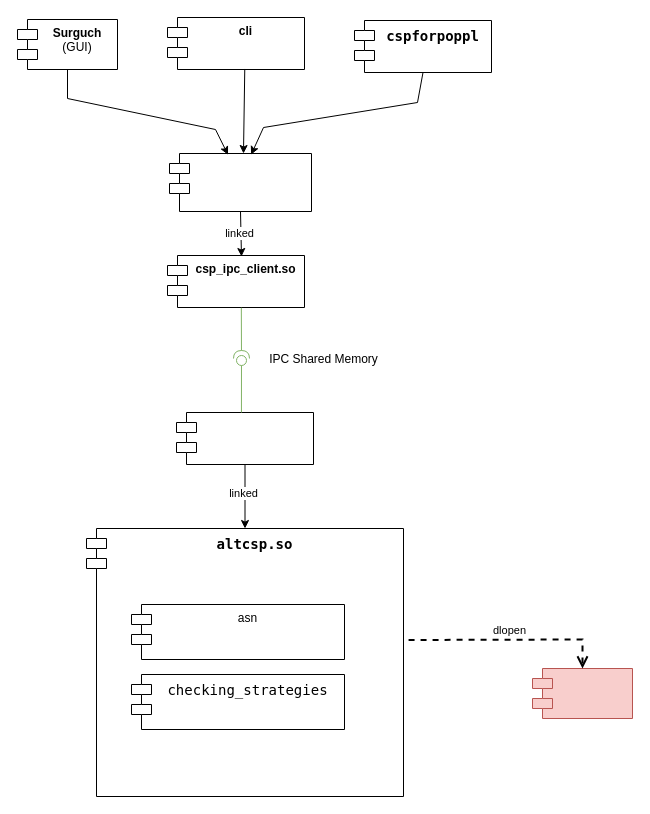
Some shapes in this 650 by 814 pixel diagram are drawn without their labels. Here are the shapes that lost their labels. From the top down, the centre of each, then its label:
At point (240, 182): "c_bridge.so".
At point (245, 438): "altcspIpcProvider (executable)".
At point (582, 693): "CryptoPro".
